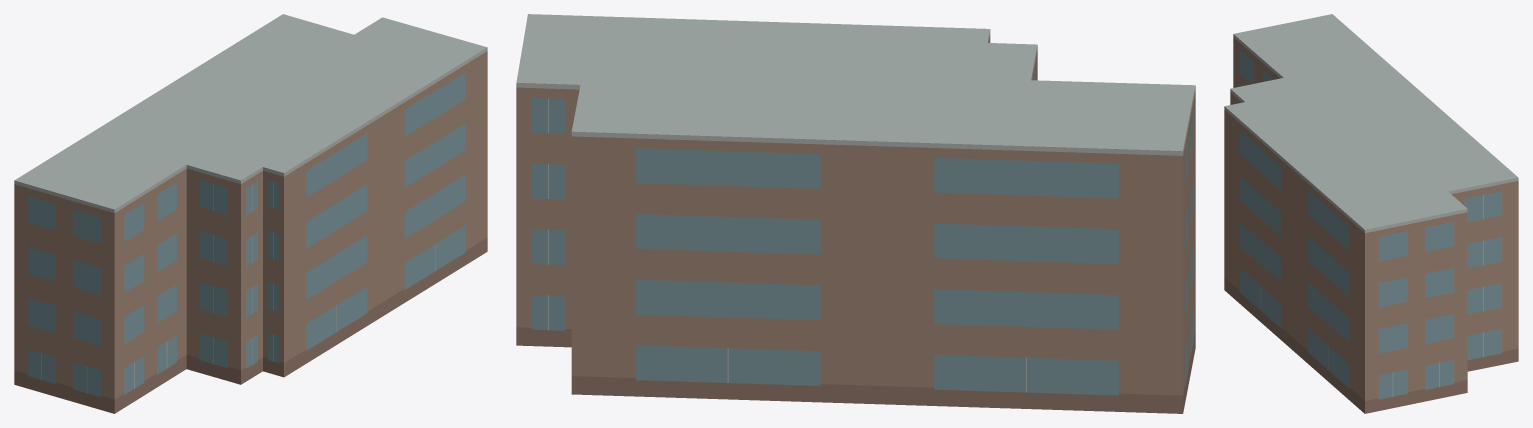
File: survey-upis-32686361.glb
The picture shows the model from 3 angles, left to right: view 1: azimuth 30°, elevation 25°; view 2: azimuth 150°, elevation 25°; view 3: azimuth 270°, elevation 25°; orthographic projection. The views are drawn at different scales.
Parts seen in each view (by area): view 1: survey-upis-32686361.tmp; view 2: survey-upis-32686361.tmp; view 3: survey-upis-32686361.tmp.
Part boxes in pixels (x1,y1,x2,y2): survey-upis-32686361.tmp: [14, 14, 487, 413]; survey-upis-32686361.tmp: [516, 14, 1195, 413]; survey-upis-32686361.tmp: [1224, 14, 1518, 413].
Bounding box in the file's own units: 34.27 × 13.61 × 19.73.
